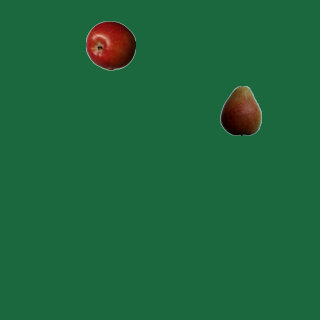Apple Braeburn: (85, 20, 135, 70)
Pear Forelle: (215, 85, 265, 135)
